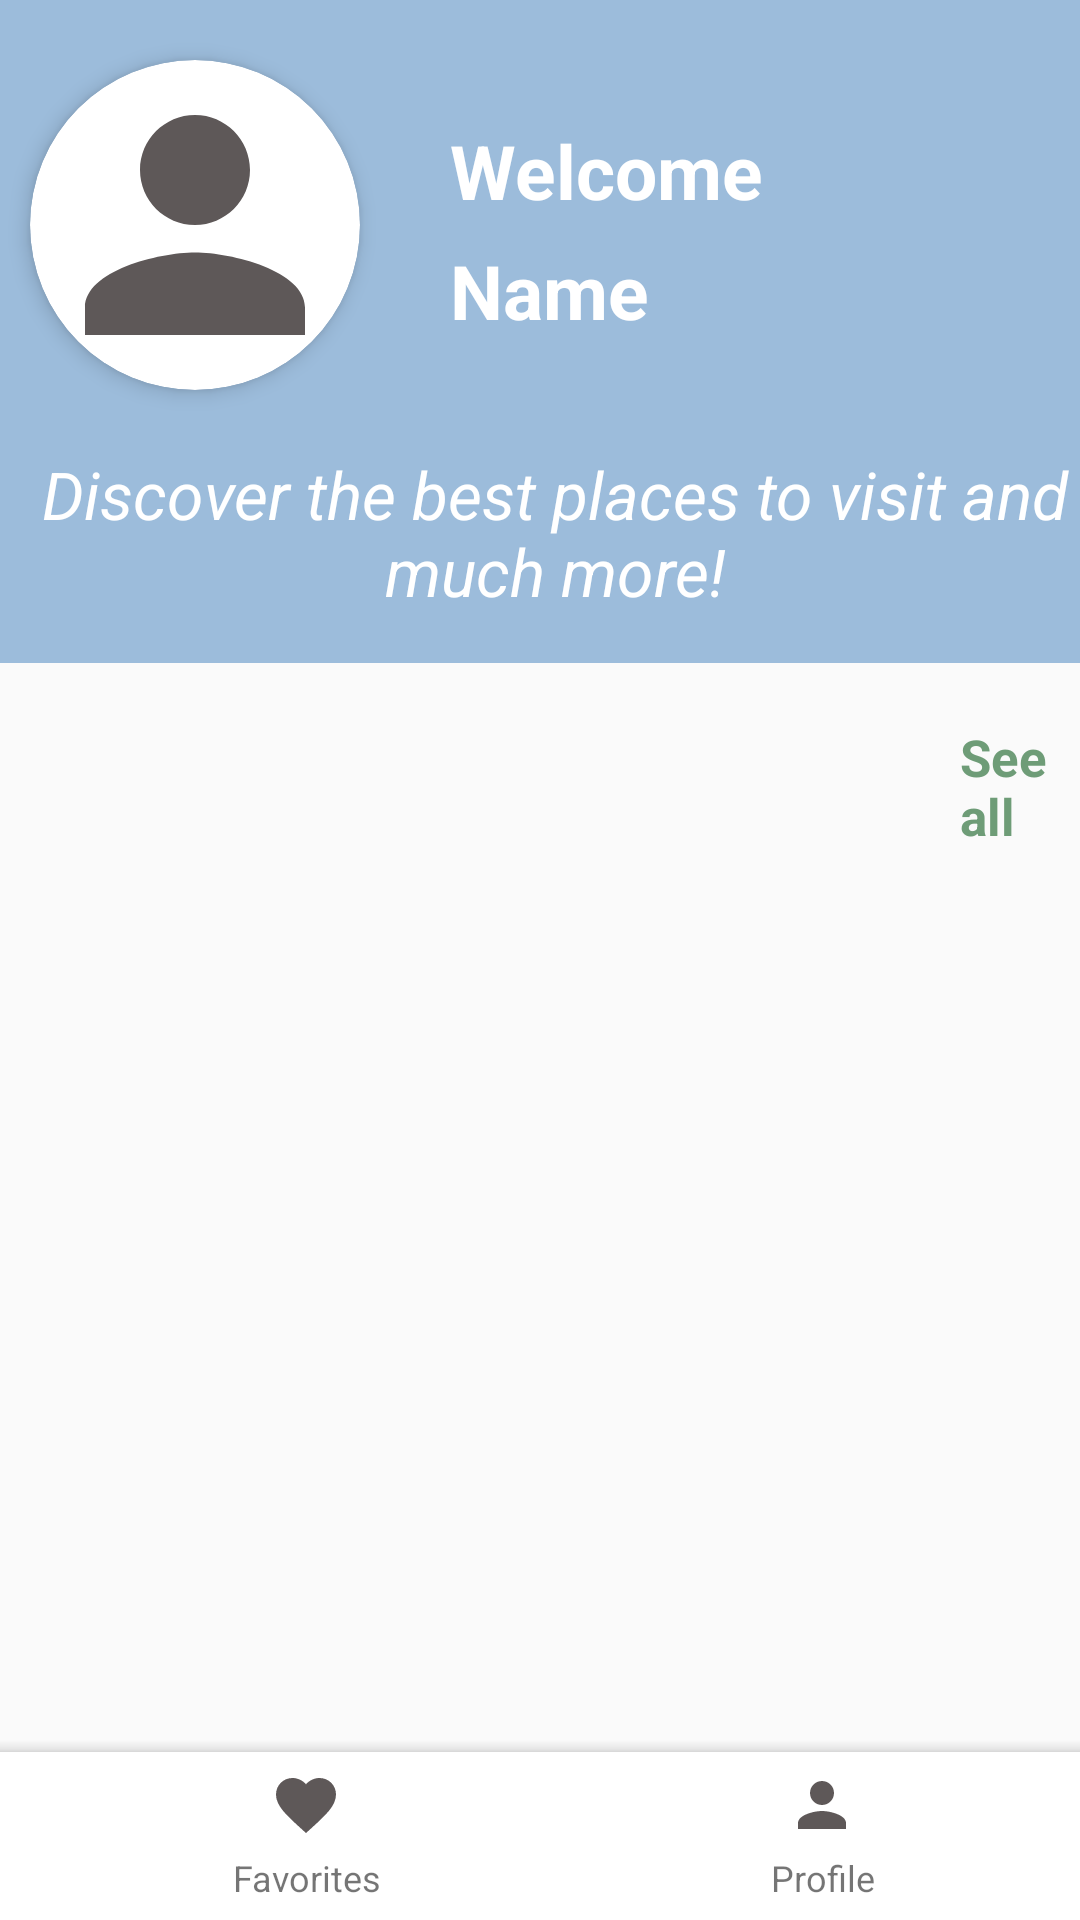

Icons on this 1080 × 1920 Android screen, each with the point to tap as point (x, y):
person: point (195, 225), point (822, 1805)
